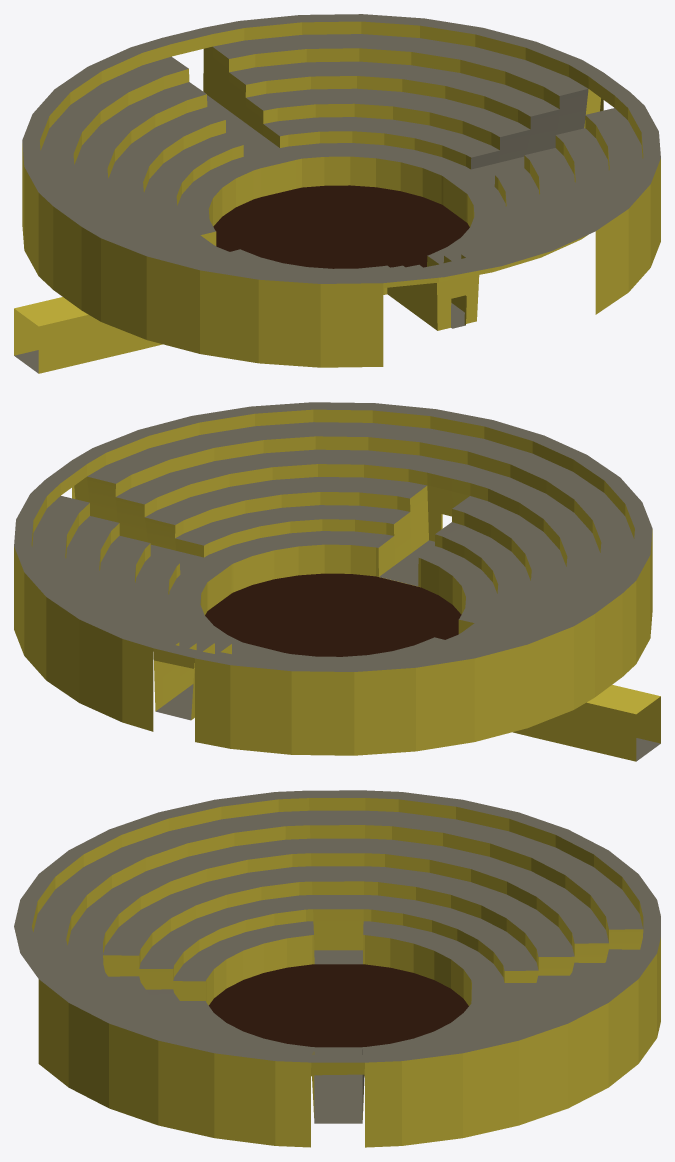
File: CenterUnwrapBad.FBX
The picture shows the model from 3 angles, top to bottom: view 1: azimuth 30°, elevation 25°; view 2: azimuth 150°, elevation 25°; view 3: azimuth 270°, elevation 25°; orthographic projection.
Visible parts, largest first — view 1: Cylinder002; view 2: Cylinder002; view 3: Cylinder002.
Boxes of the visible parts, bbox=[...] form: Cylinder002: bbox=[14, 14, 660, 373]; Cylinder002: bbox=[14, 402, 660, 761]; Cylinder002: bbox=[14, 790, 660, 1147].
Size of the model in its own units: 45.92 by 10.37 by 42.96.
